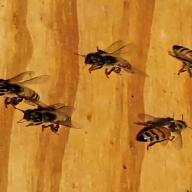Bee: (68, 45, 140, 80), (0, 73, 55, 113), (128, 114, 192, 148), (159, 41, 192, 81), (19, 109, 83, 129)
